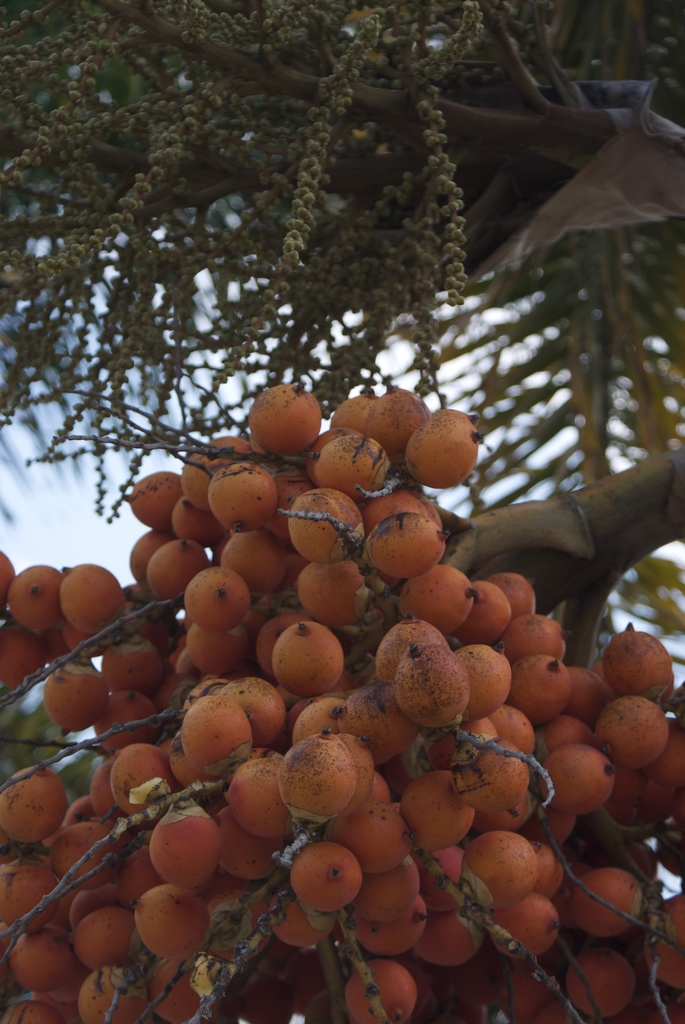Tree: (0, 0, 684, 1022)
